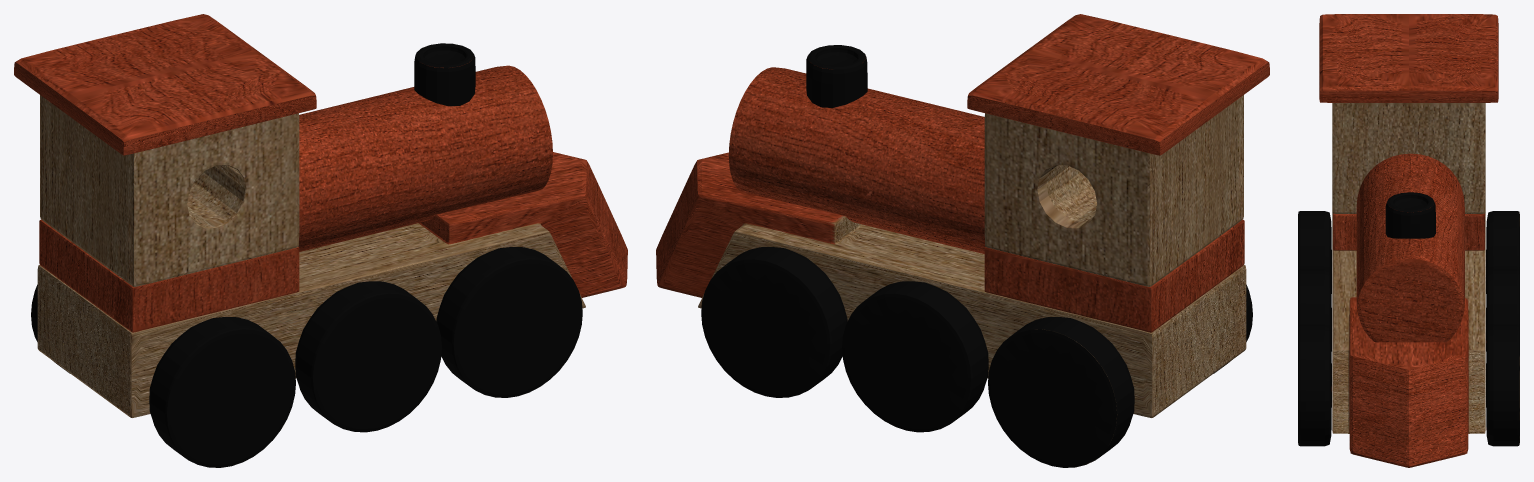
Rendered from train.fbx.
The picture shows the model from 3 angles, left to right: view 1: azimuth 30°, elevation 25°; view 2: azimuth 150°, elevation 25°; view 3: azimuth 270°, elevation 25°; orthographic projection. The views are drawn at different scales.
Visible parts, largest first — view 1: Cylinder.004, Cube.004, Cube.006, Cylinder.003, Cube.007, Cube.005, Cylinder.005; view 2: Cylinder.004, Cube.004, Cube.006, Cylinder.003, Cube.007, Cube.005, Cylinder.005; view 3: Cube.004, Cylinder.003, Cube.007, Cylinder.004, Cube.006, Cylinder.005, Cube.005.
Part boxes in pixels (x1=…): Cylinder.004: x1=31, y1=247, x2=582, y2=467; Cube.004: x1=37, y1=152, x2=627, y2=417; Cube.006: x1=40, y1=95, x2=299, y2=286; Cylinder.003: x1=298, y1=65, x2=552, y2=251; Cube.007: x1=14, y1=14, x2=316, y2=155; Cube.005: x1=39, y1=219, x2=299, y2=332; Cylinder.005: x1=414, y1=43, x2=475, y2=106; Cylinder.004: x1=701, y1=247, x2=1252, y2=467; Cube.004: x1=656, y1=152, x2=1246, y2=417; Cube.006: x1=984, y1=95, x2=1243, y2=286; Cylinder.003: x1=728, y1=67, x2=985, y2=253; Cube.007: x1=967, y1=14, x2=1269, y2=155; Cube.005: x1=984, y1=219, x2=1244, y2=332; Cylinder.005: x1=806, y1=45, x2=867, y2=107; Cube.004: x1=1332, y1=212, x2=1485, y2=467; Cylinder.003: x1=1356, y1=153, x2=1464, y2=342; Cube.007: x1=1319, y1=14, x2=1498, y2=102; Cylinder.004: x1=1298, y1=211, x2=1519, y2=446; Cube.006: x1=1332, y1=103, x2=1485, y2=213; Cylinder.005: x1=1385, y1=192, x2=1435, y2=238; Cube.005: x1=1333, y1=213, x2=1484, y2=250.
Size of the model in its own units: 516 by 303 by 219.
1 material, 1 textured.
